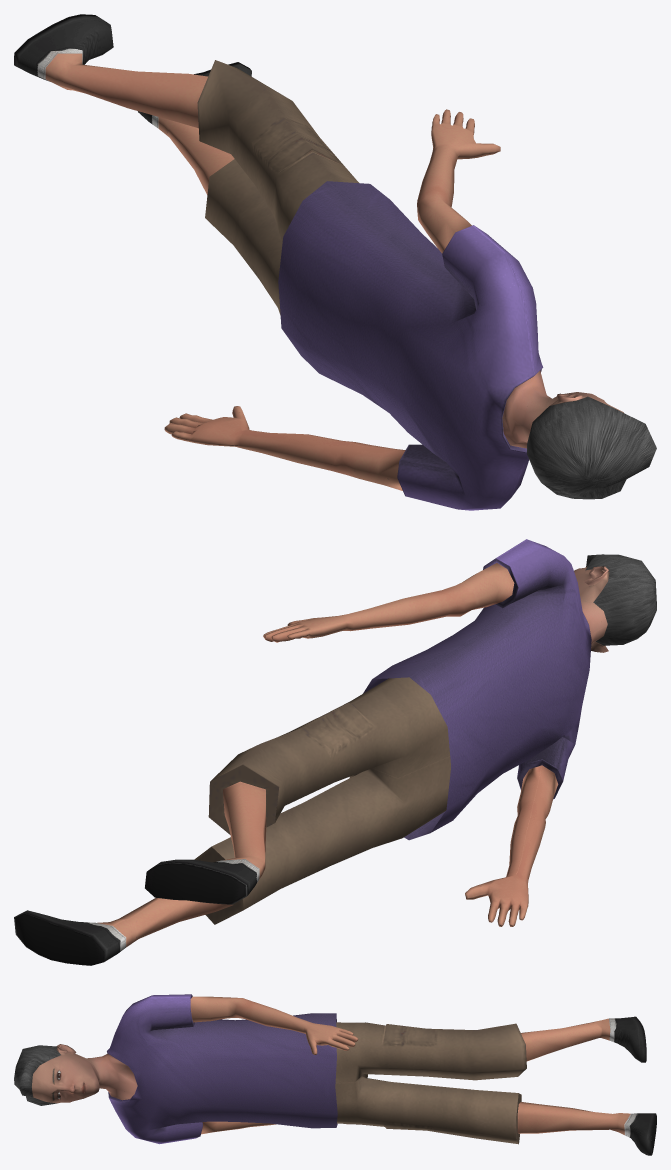
The model's file is walk.obj.
The picture shows the model from 3 angles, top to bottom: view 1: azimuth 30°, elevation 25°; view 2: azimuth 150°, elevation 25°; view 3: azimuth 270°, elevation 25°; orthographic projection. The views are drawn at different scales.
Bounding box in the file's own units: 0.6189 × 0.4926 × 1.76.
1 material, 1 textured.
